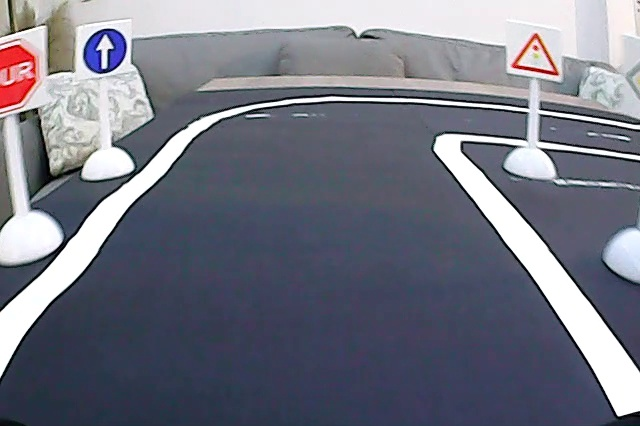red light: (507, 24, 562, 79)
stop sign: (1, 29, 43, 111)
